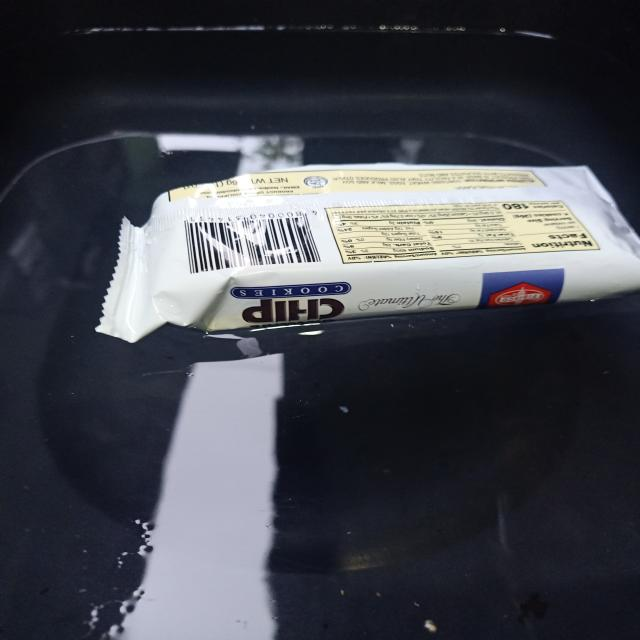Plastic Wrapper: (72, 144, 640, 368)
